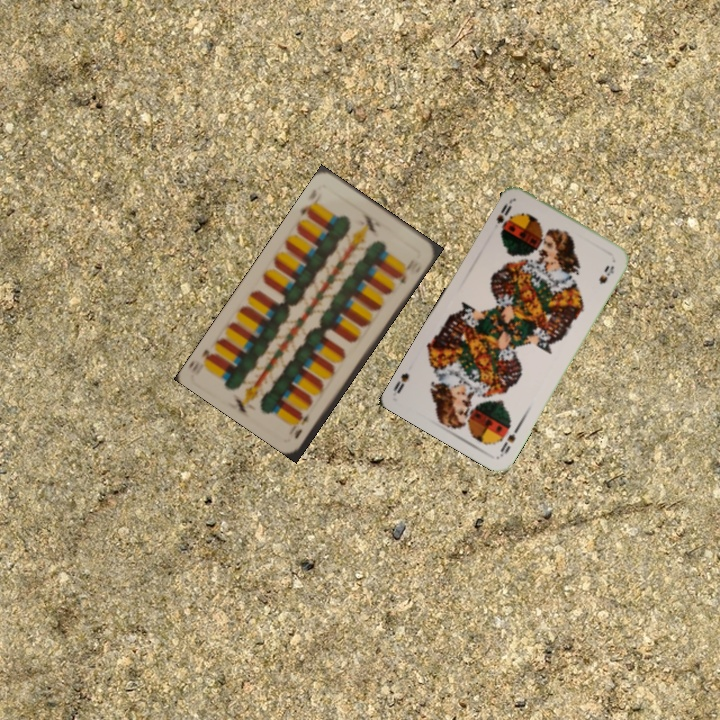E10: (290, 409, 312, 442), (296, 199, 315, 221)
SO: (496, 421, 523, 458), (492, 197, 514, 237)
